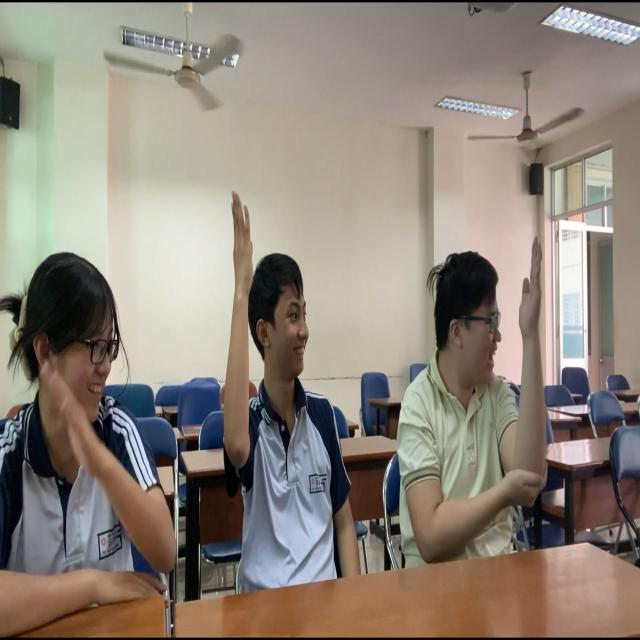raise_hand: (221, 183, 347, 587), (409, 234, 560, 535)
